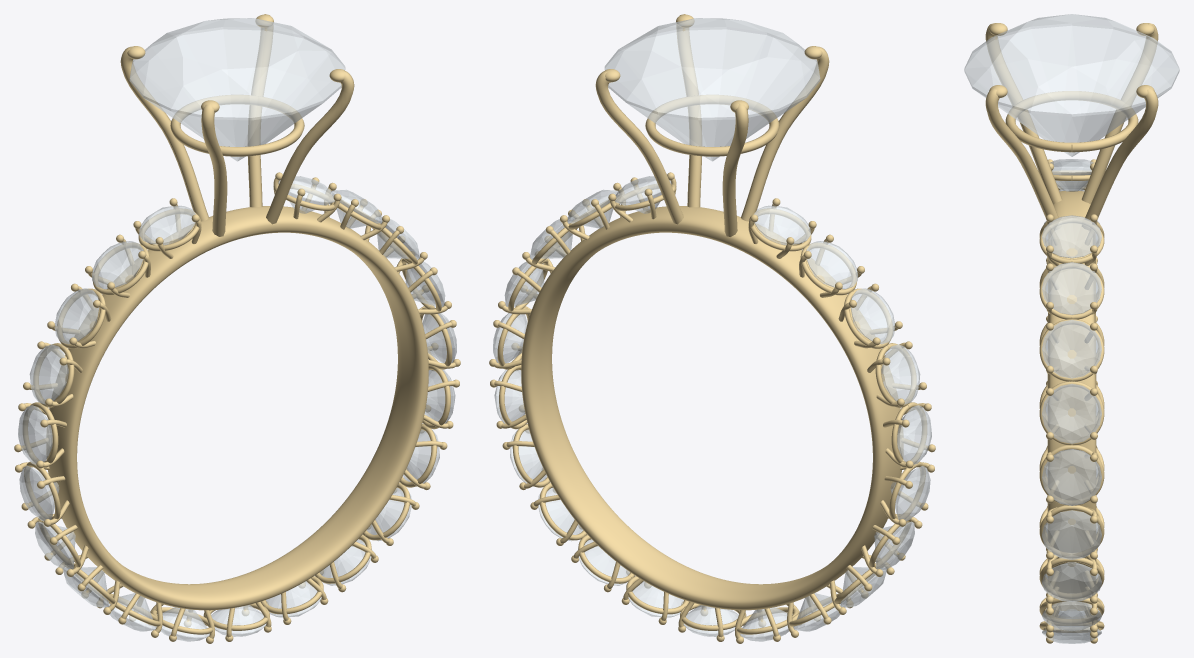
File: ring.glb
3 renders of one model, left to right at view 1: azimuth 30°, elevation 25°; view 2: azimuth 150°, elevation 25°; view 3: azimuth 270°, elevation 25°, orthographic.
Parts seen in each view (by area): view 1: Surface Prongs and gallery, Surface Gold band, Surface Eternity diamonds, Surface Center diamond; view 2: Surface Prongs and gallery, Surface Gold band, Surface Eternity diamonds, Surface Center diamond; view 3: Surface Prongs and gallery, Surface Eternity diamonds, Surface Center diamond, Surface Gold band.
Part boxes in pixels (x1=…): Surface Prongs and gallery: x1=14, y1=14, x2=460, y2=643; Surface Gold band: x1=46, y1=206, x2=428, y2=610; Surface Eternity diamonds: x1=18, y1=176, x2=456, y2=641; Surface Center diamond: x1=129, y1=18, x2=345, y2=161; Surface Prongs and gallery: x1=489, y1=14, x2=935, y2=643; Surface Gold band: x1=521, y1=206, x2=903, y2=610; Surface Eternity diamonds: x1=493, y1=176, x2=931, y2=641; Surface Center diamond: x1=604, y1=18, x2=820, y2=161; Surface Prongs and gallery: x1=985, y1=23, x2=1158, y2=643; Surface Eternity diamonds: x1=1042, y1=159, x2=1101, y2=643; Surface Center diamond: x1=964, y1=14, x2=1179, y2=156; Surface Gold band: x1=1047, y1=190, x2=1096, y2=610.
Size of the model in its own units: 2.21 by 2.91 by 0.98.
